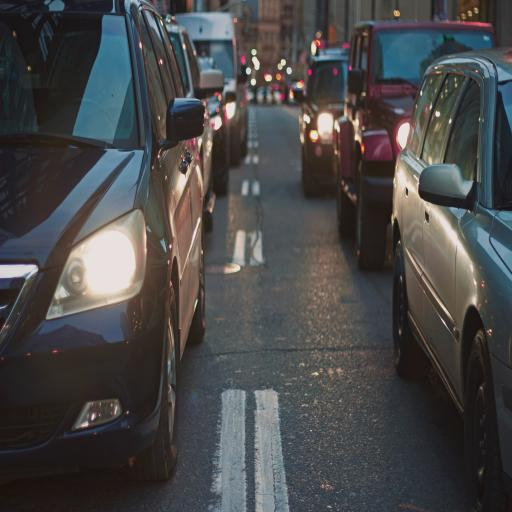car: (0, 0, 205, 481), (392, 49, 511, 511), (335, 21, 496, 269), (166, 16, 218, 231), (176, 12, 247, 165), (294, 49, 348, 195), (198, 57, 216, 70), (265, 86, 275, 105), (256, 87, 265, 104)
